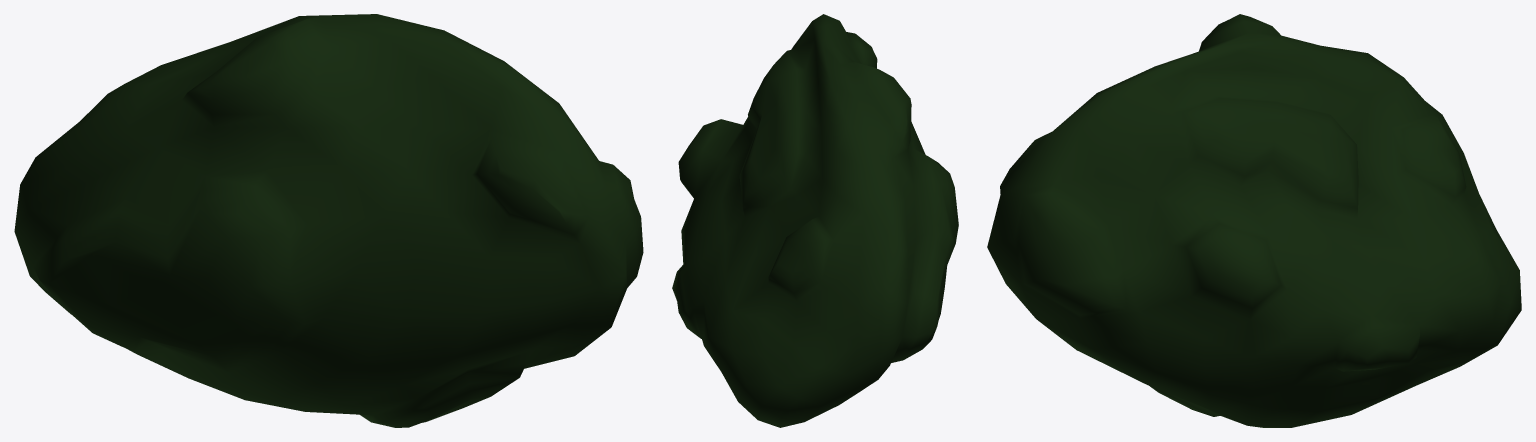
File: large moss debris.fbx
3 views of the same model, side by side, from view 1: azimuth 30°, elevation 25°; view 2: azimuth 150°, elevation 25°; view 3: azimuth 270°, elevation 25° (orthographic). The views are drawn at different scales.
Visible parts, largest first — view 1: GeoSphere005; view 2: GeoSphere005; view 3: GeoSphere005.
Boxes of the visible parts, x1,y1,x2,y2 form: GeoSphere005: (14, 14, 643, 427); GeoSphere005: (672, 14, 958, 427); GeoSphere005: (987, 14, 1521, 427).
Bounding box in the file's own units: 15.63 × 14.88 × 19.81.
